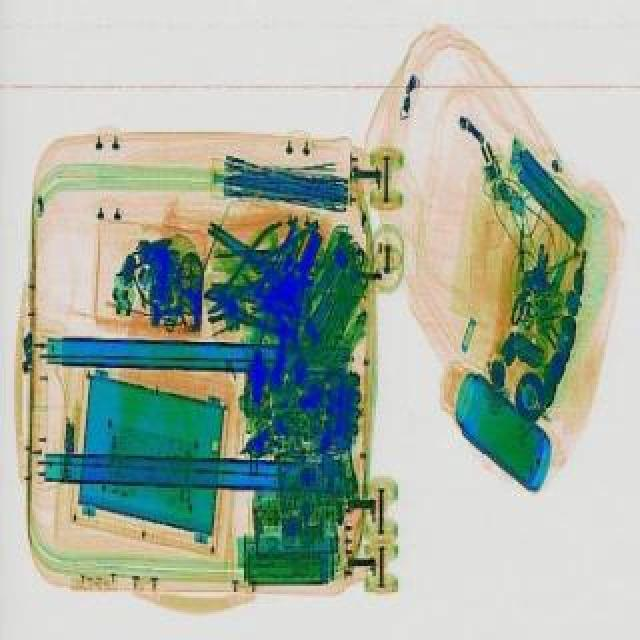wrench: (192, 216, 304, 324)
